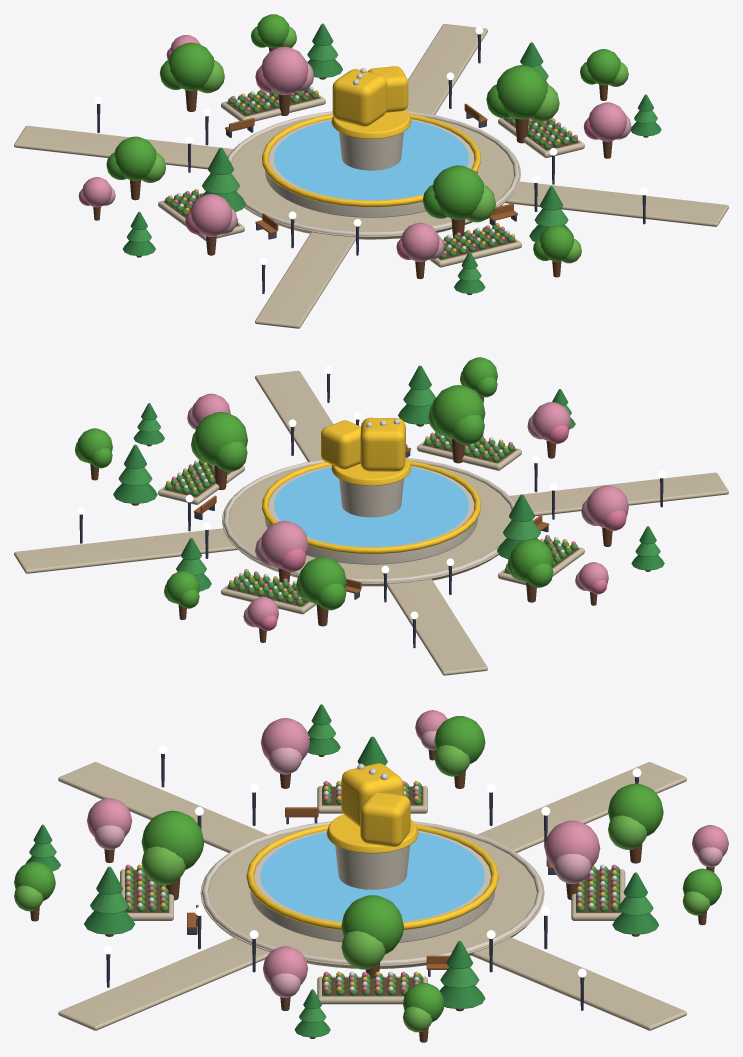
Rendered from centre.glb.
3 views of the same model, one above another, from view 1: azimuth 30°, elevation 25°; view 2: azimuth 150°, elevation 25°; view 3: azimuth 270°, elevation 25° (orthographic). The views are drawn at different scales.
Visible parts, largest first — view 1: Cone; view 2: Cone; view 3: Cone.
Boxes of the visible parts, left/top/right/bottom form: Cone: left=14, top=14, right=728, bottom=328; Cone: left=14, top=357, right=728, bottom=675; Cone: left=14, top=704, right=728, bottom=1042.
Size of the model in its own units: 5.6 by 1.05 by 5.55.
